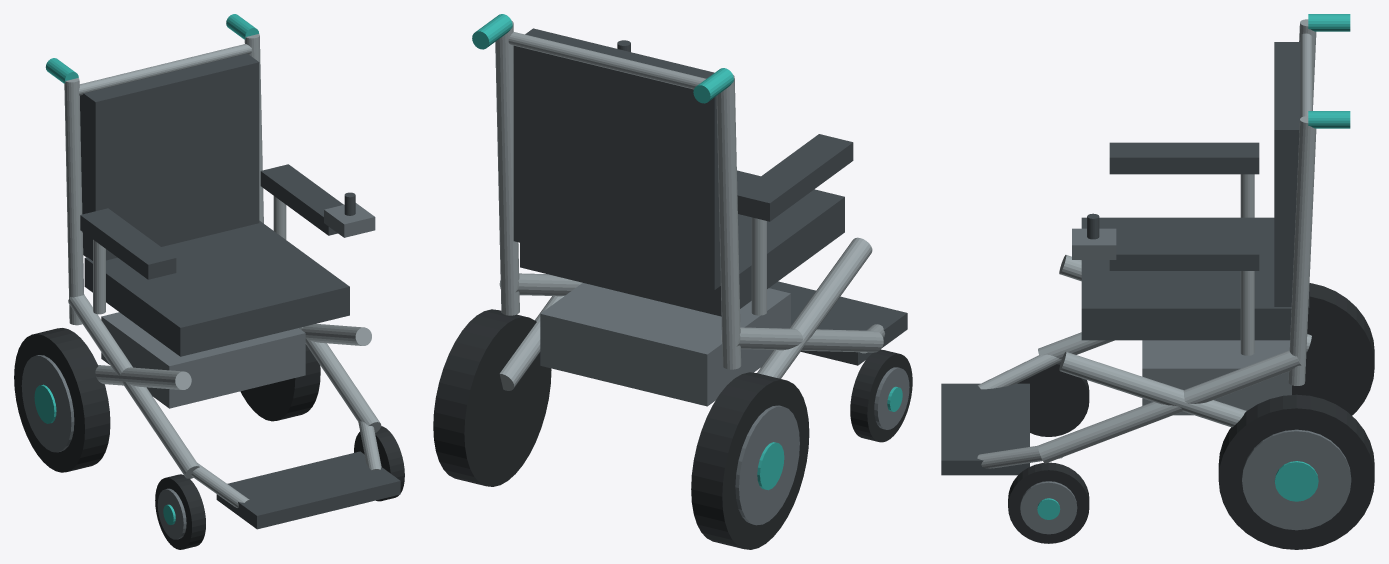
The model's file is movility-one.glb.
The picture shows the model from 3 angles, left to right: view 1: azimuth 30°, elevation 25°; view 2: azimuth 150°, elevation 25°; view 3: azimuth 270°, elevation 25°; orthographic projection. The views are drawn at different scales.
Size of the model in its own units: 0.668 by 0.999 by 0.927.
